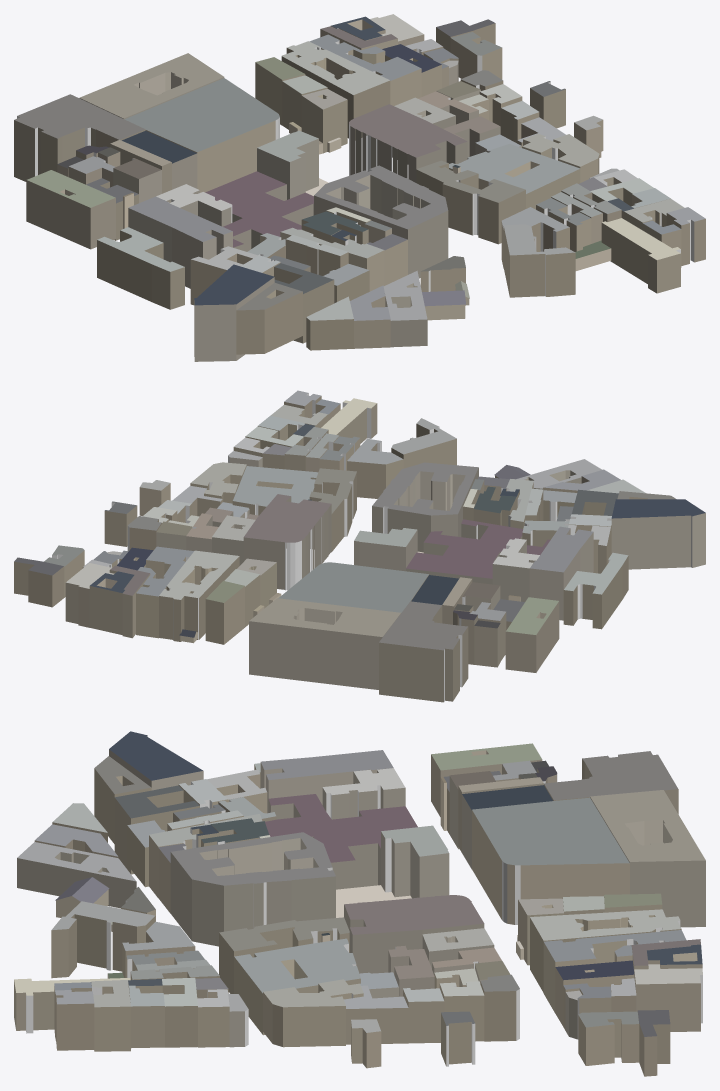
3 renders of one model, top to bottom at view 1: azimuth 30°, elevation 25°; view 2: azimuth 150°, elevation 25°; view 3: azimuth 270°, elevation 25°, orthographic. The views are drawn at different scales.
Parts seen in each view (by area): view 1: tuile; view 2: tuile; view 3: tuile.
Boxes of the visible parts, x1,y1,x2,y2 form: tuile: (14, 14, 705, 361); tuile: (14, 390, 705, 702); tuile: (14, 731, 705, 1076).
Size of the model in its own units: 281 by 40.06 by 282.
